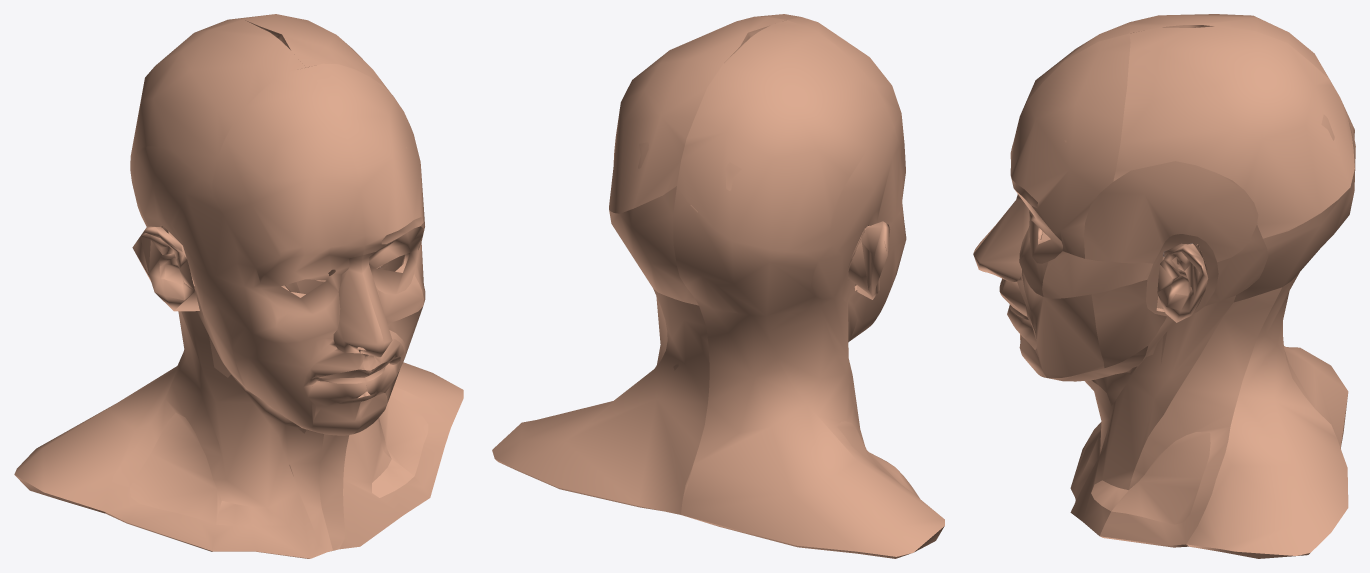
File: brain_organ_v1_lite.glb
3 renders of one model, left to right at view 1: azimuth 30°, elevation 25°; view 2: azimuth 150°, elevation 25°; view 3: azimuth 270°, elevation 25°, orthographic.
Parts seen in each view (by area): view 1: regions.head_neck_surface; view 2: regions.head_neck_surface; view 3: regions.head_neck_surface.
Boxes of the visible parts, box(x1,y1,x2,y2) form: regions.head_neck_surface: box(14, 14, 463, 558); regions.head_neck_surface: box(492, 14, 944, 558); regions.head_neck_surface: box(973, 14, 1355, 558).
Bounding box in the file's own units: 0.2887 × 0.3079 × 0.2234.
